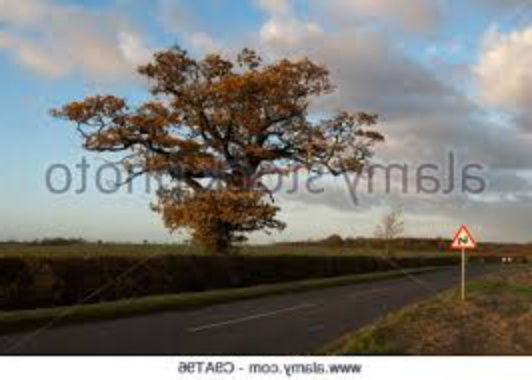Double_bend_right: (448, 223, 478, 250)
